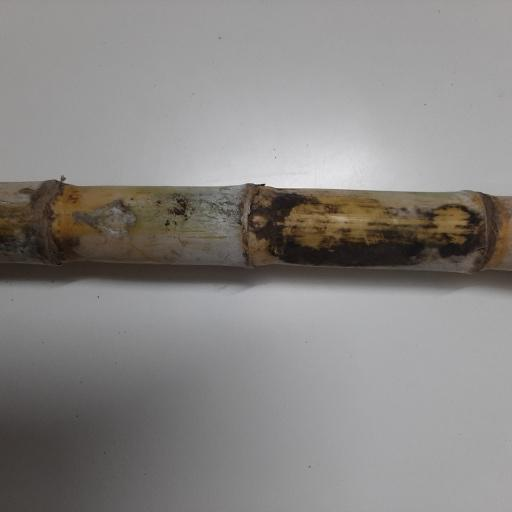Bud: (246, 212, 270, 233)
